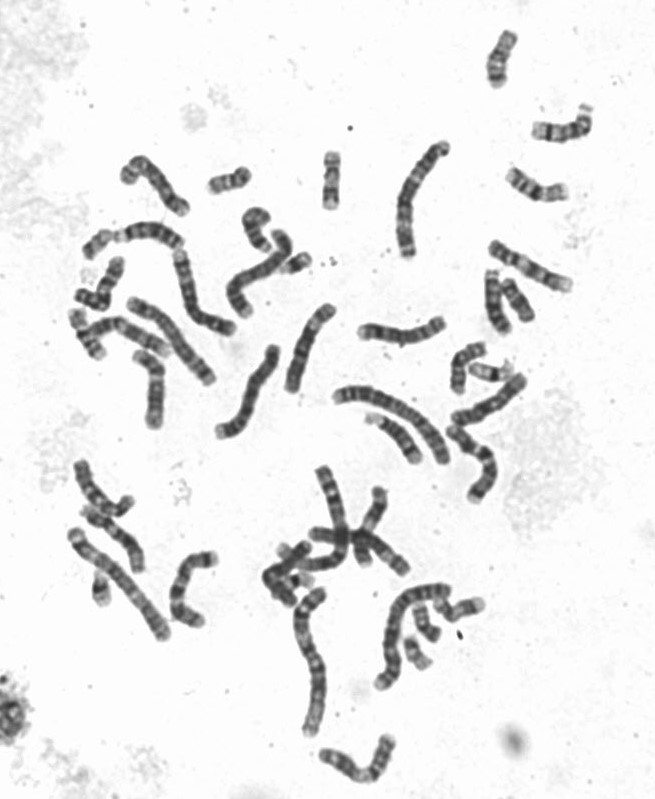chromosomes: (62, 524, 172, 654), (329, 386, 455, 472), (367, 581, 455, 693), (125, 295, 222, 392), (268, 463, 352, 571), (392, 133, 454, 263), (211, 339, 285, 446), (225, 225, 303, 320), (287, 588, 335, 738), (278, 297, 343, 403), (168, 245, 239, 341), (305, 525, 416, 581), (487, 235, 579, 297), (444, 424, 508, 513), (314, 731, 408, 788), (115, 151, 195, 217), (78, 505, 151, 576), (167, 545, 224, 634), (83, 315, 176, 366), (64, 455, 135, 521), (448, 376, 535, 428), (358, 411, 429, 468), (525, 99, 605, 149), (259, 536, 314, 608), (127, 349, 171, 435), (67, 255, 127, 316), (358, 310, 455, 346), (353, 485, 394, 569), (478, 260, 520, 341), (64, 304, 114, 369), (498, 163, 572, 206), (480, 26, 520, 105), (115, 222, 188, 264), (450, 336, 490, 401), (500, 271, 542, 325), (318, 143, 348, 216), (242, 201, 280, 256), (429, 594, 490, 623), (204, 165, 257, 198), (409, 604, 445, 649), (85, 563, 112, 614), (465, 360, 522, 384), (83, 227, 119, 265), (402, 632, 433, 675), (273, 251, 320, 279), (283, 570, 319, 597)
